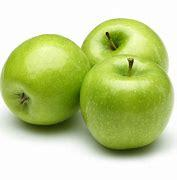apple: (80, 51, 171, 149), (2, 34, 91, 121), (85, 16, 172, 74)
